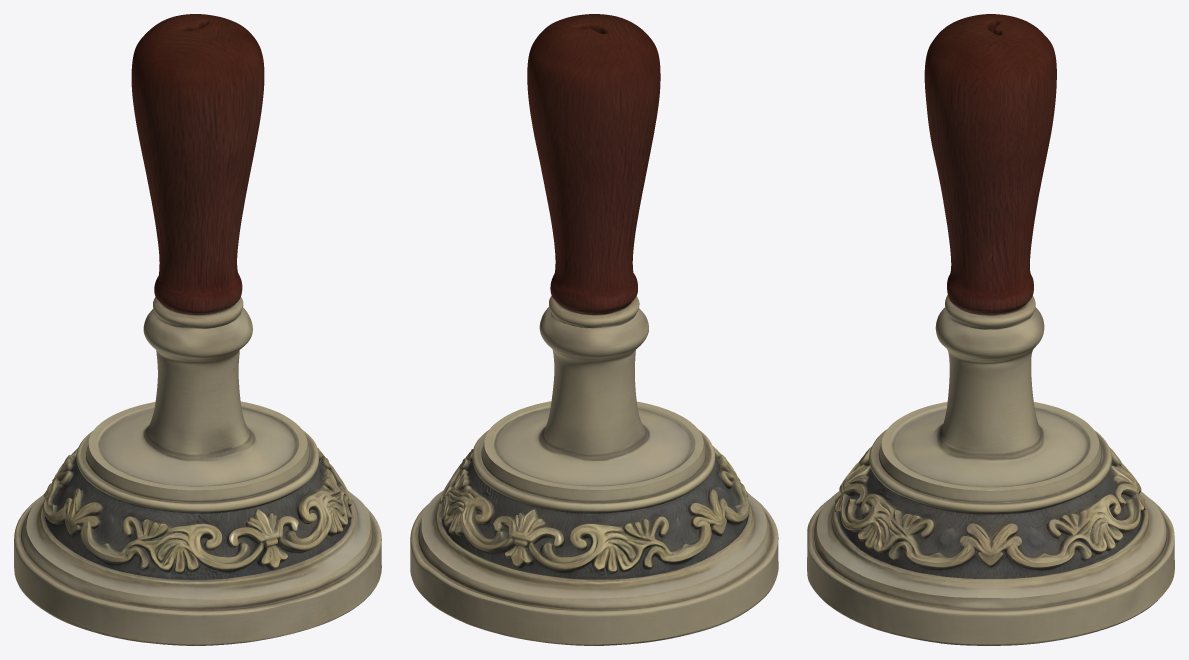
The model's file is stamp.glb.
The picture shows the model from 3 angles, left to right: view 1: azimuth 30°, elevation 25°; view 2: azimuth 150°, elevation 25°; view 3: azimuth 270°, elevation 25°; orthographic projection.
Parts seen in each view (by area): view 1: model; view 2: model; view 3: model.
Boxes of the visible parts, x1,y1,x2,y2 form: model: [14, 14, 381, 645]; model: [410, 14, 778, 645]; model: [807, 14, 1174, 645].
Bounding box in the file's own units: 1.16 × 1.9 × 1.16.
1 material, 1 textured.
